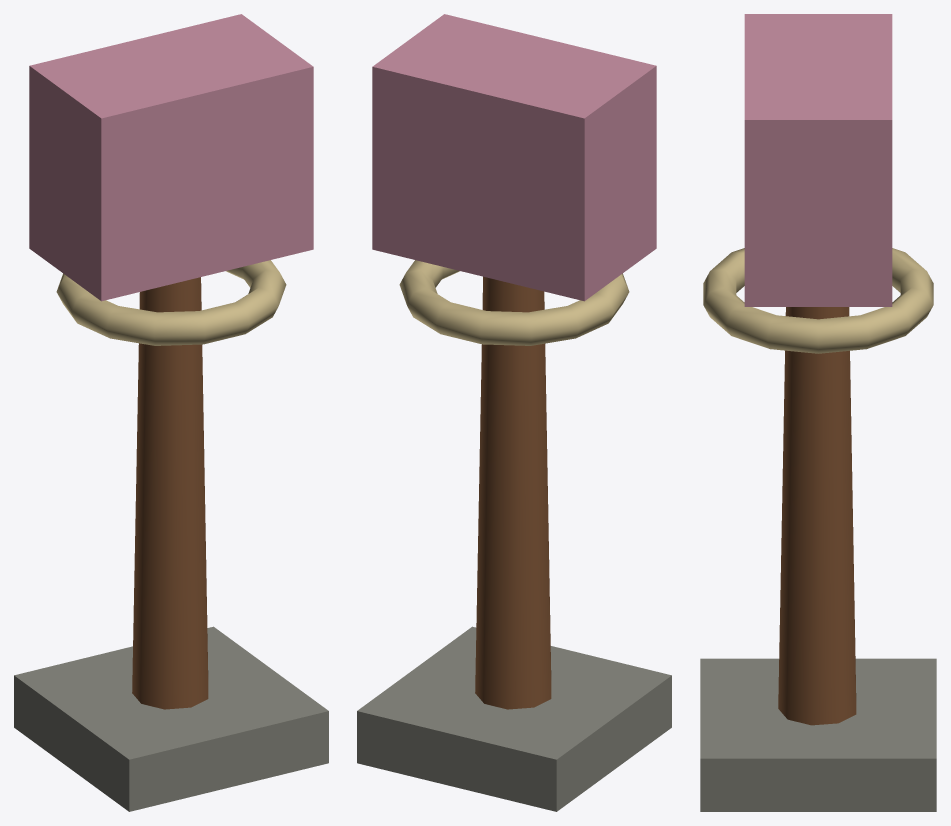
File: training_dummy.glb
The picture shows the model from 3 angles, left to right: view 1: azimuth 30°, elevation 25°; view 2: azimuth 150°, elevation 25°; view 3: azimuth 270°, elevation 25°; orthographic projection. The views are drawn at different scales.
Visible parts, largest first — view 1: head, base, post, detail_ring; view 2: head, base, post, detail_ring; view 3: head, base, post, detail_ring.
Boxes of the visible parts, box(x1,y1,x2,y2) form: head: box(29, 14, 313, 301); base: box(14, 626, 328, 811); post: box(132, 277, 208, 709); detail_ring: box(56, 260, 286, 345); head: box(372, 14, 656, 301); base: box(357, 626, 671, 811); post: box(475, 276, 551, 709); detail_ring: box(399, 260, 629, 345); head: box(744, 14, 892, 306); base: box(700, 658, 936, 811); post: box(778, 307, 856, 725); detail_ring: box(703, 248, 933, 353).
Size of what is drawn, in the model's own units: 0.85 by 2.6 by 0.8.
